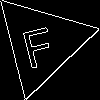F: (17, 17, 58, 70)
